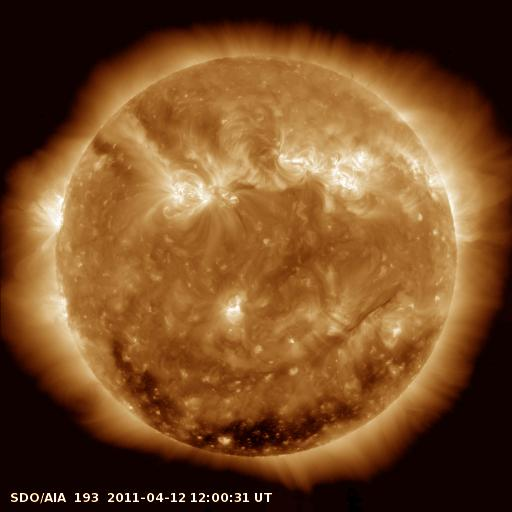coronal_hole: (188, 382, 371, 462), (109, 341, 184, 445)
